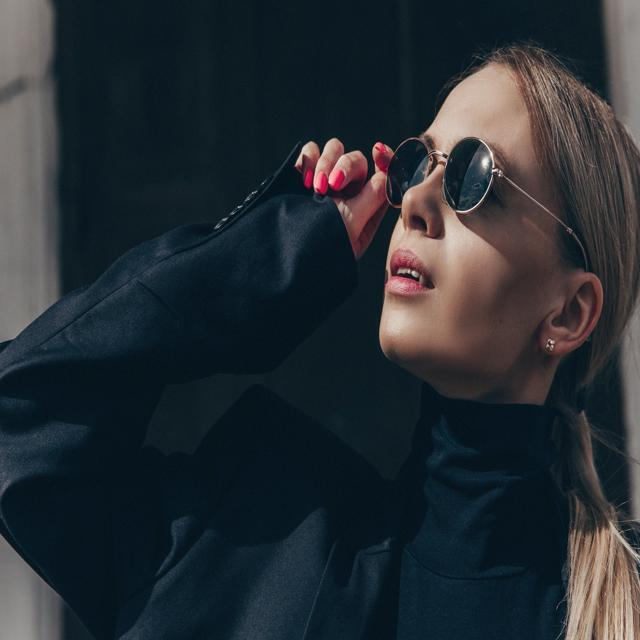2_gafas: (383, 134, 552, 221)
